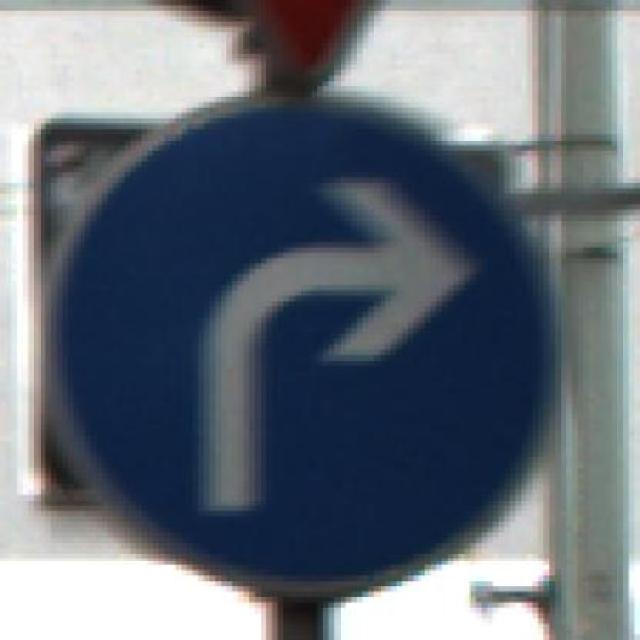Turn right ahead: (34, 85, 572, 602)
